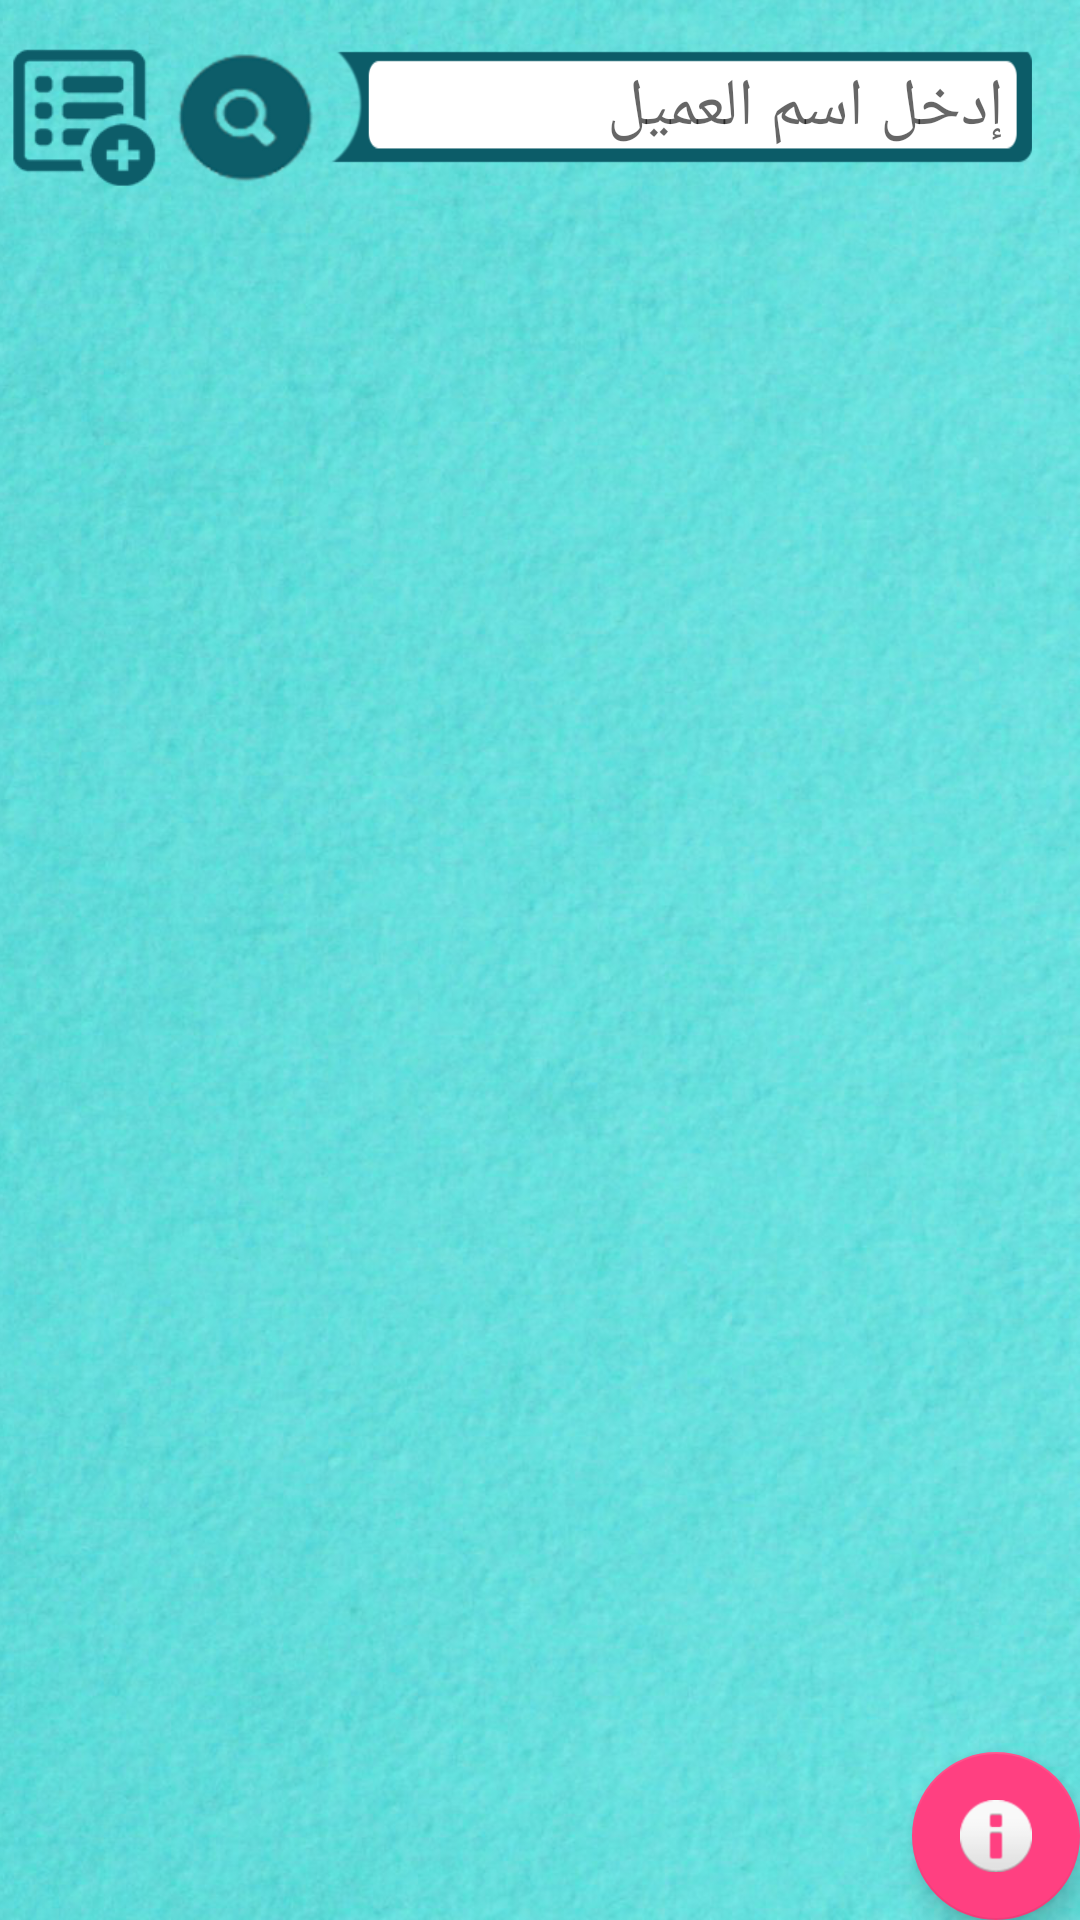

Icons on this 1080w x 1920h Android screen, each with the point to tap as point (x, y):
add: point (84, 117)
buttonsearch: point (245, 117)
info: point (996, 1836)
